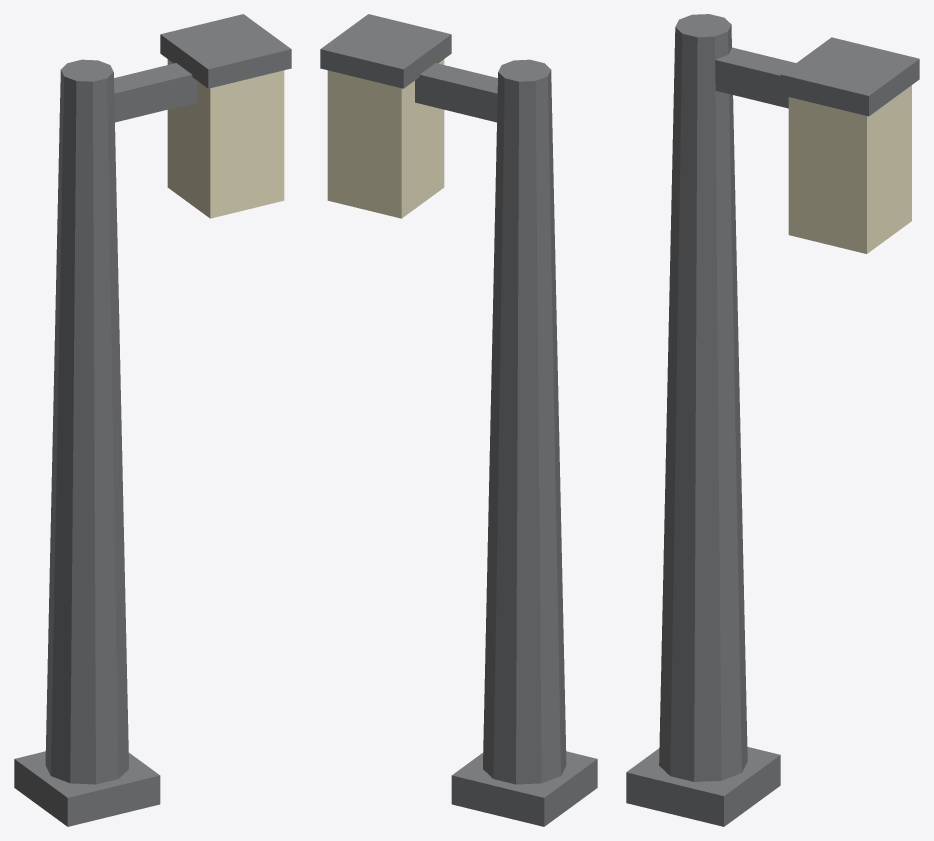
The model's file is lamp.glb.
3 views of the same model, side by side, from view 1: azimuth 30°, elevation 25°; view 2: azimuth 150°, elevation 25°; view 3: azimuth 330°, elevation 25° (orthographic). The views are drawn at different scales.
Parts seen in each view (by area): view 1: LampPost, LampHousing, LampCap, LampBase, LampArm; view 2: LampPost, LampHousing, LampCap, LampBase, LampArm; view 3: LampPost, LampHousing, LampCap, LampBase, LampArm.
Boxes of the visible parts, x1,y1,x2,y2 form: LampPost: (45,59,128,784); LampHousing: (167,59,284,218); LampCap: (160,14,291,88); LampBase: (14,751,160,826); LampArm: (114,63,196,122); LampPost: (483,59,566,784); LampHousing: (327,59,444,218); LampCap: (320,14,451,88); LampBase: (451,751,597,826); LampArm: (415,63,497,122); LampPost: (659,14,747,781); LampHousing: (788,85,911,253); LampCap: (780,37,919,116); LampBase: (626,747,780,826); LampArm: (715,47,795,108).
Bounding box in the file's own units: 0.98 × 3 × 0.4.
